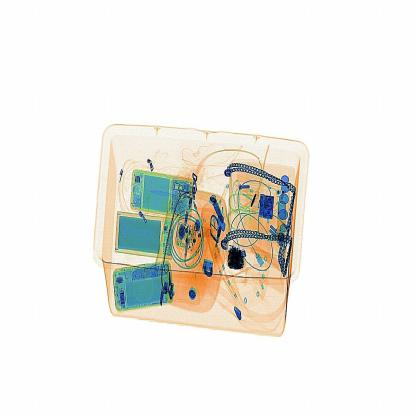scissors: (224, 245, 251, 275)
